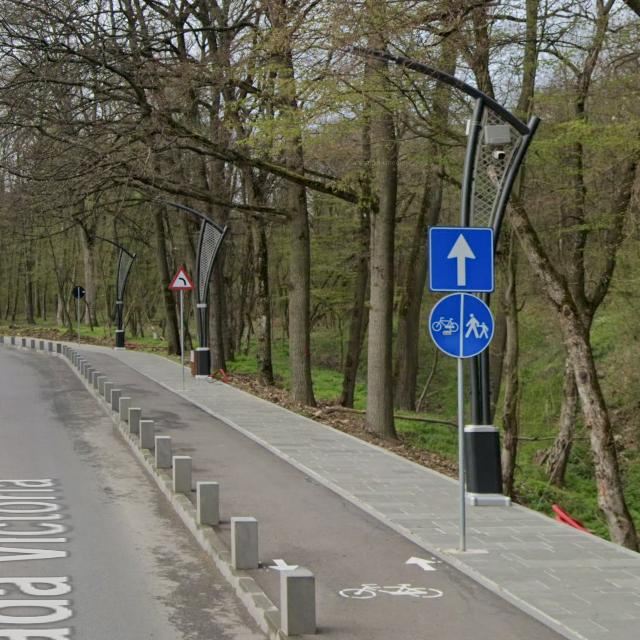info_one_way_traffic: (428, 226, 495, 292)
